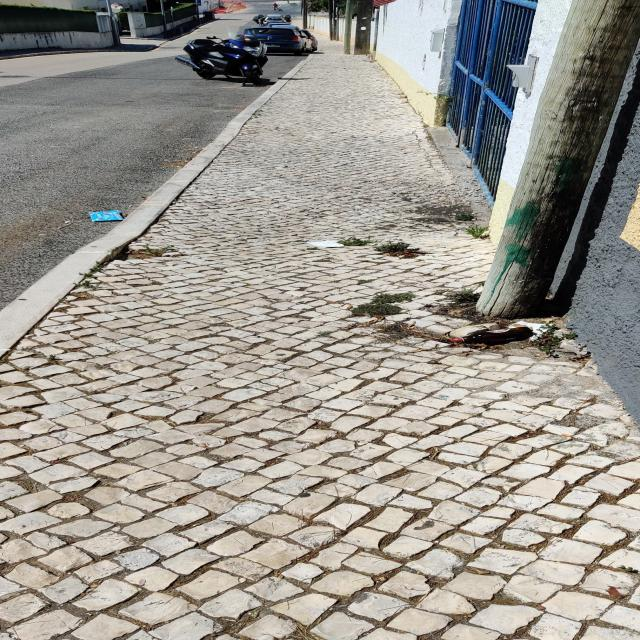litter: (441, 327, 533, 343), (507, 320, 554, 340), (88, 210, 124, 222), (308, 240, 345, 247)
